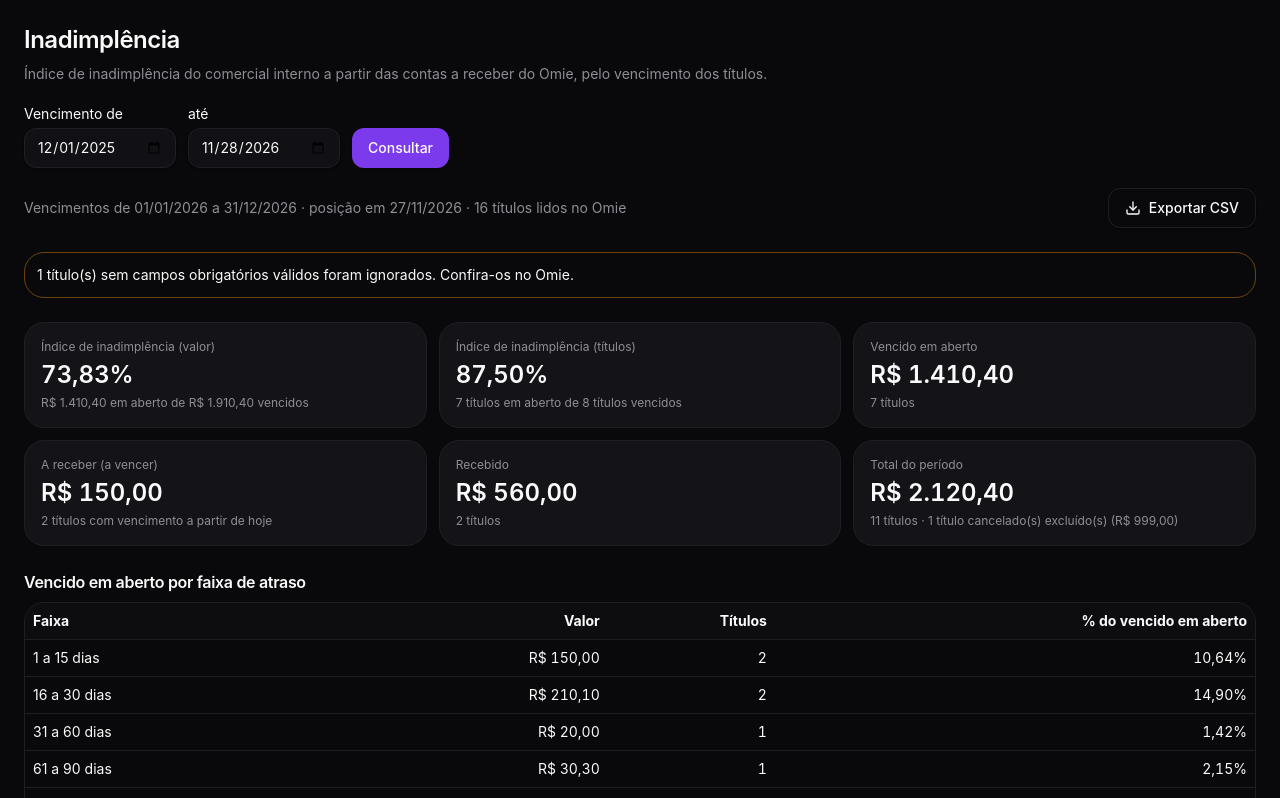
Test: valida o período no navegador antes de consultar
Expected: the text "73,83%" is shown, [41,360,134,389]
In the date field showing "Vencimento de": (100, 148) [24,128,176,168], type "2026-12-31"
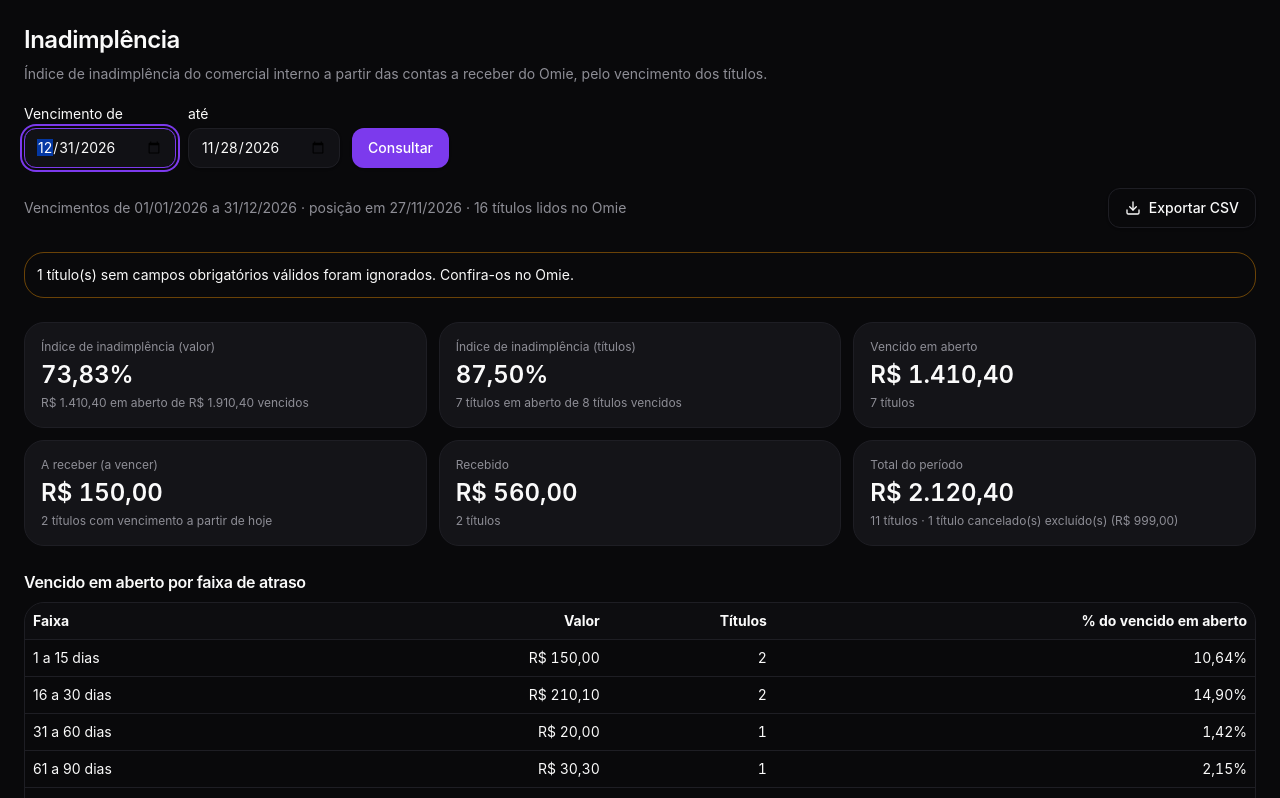
In the date field showing "até": (264, 148) [188,128,340,168], type "2026-01-01"
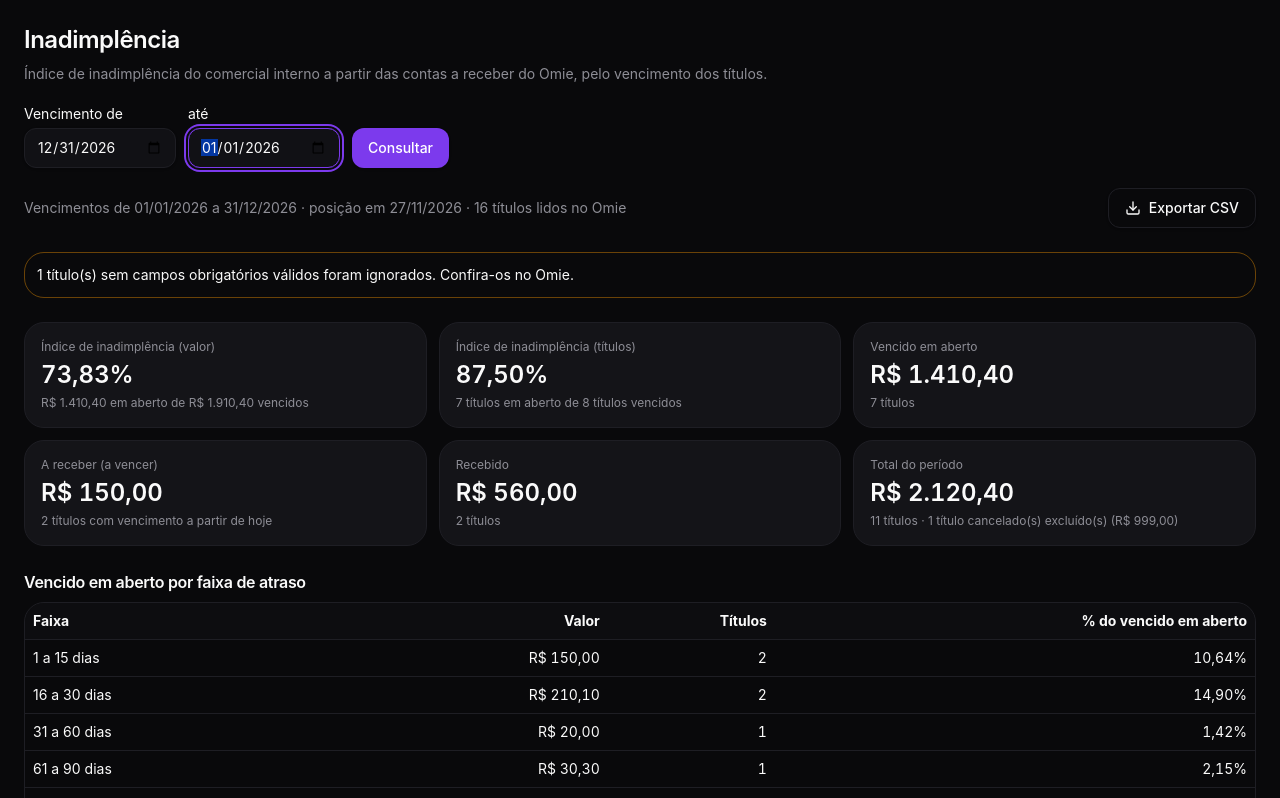
Click the button "Consultar": (400, 148) [352,128,449,168]
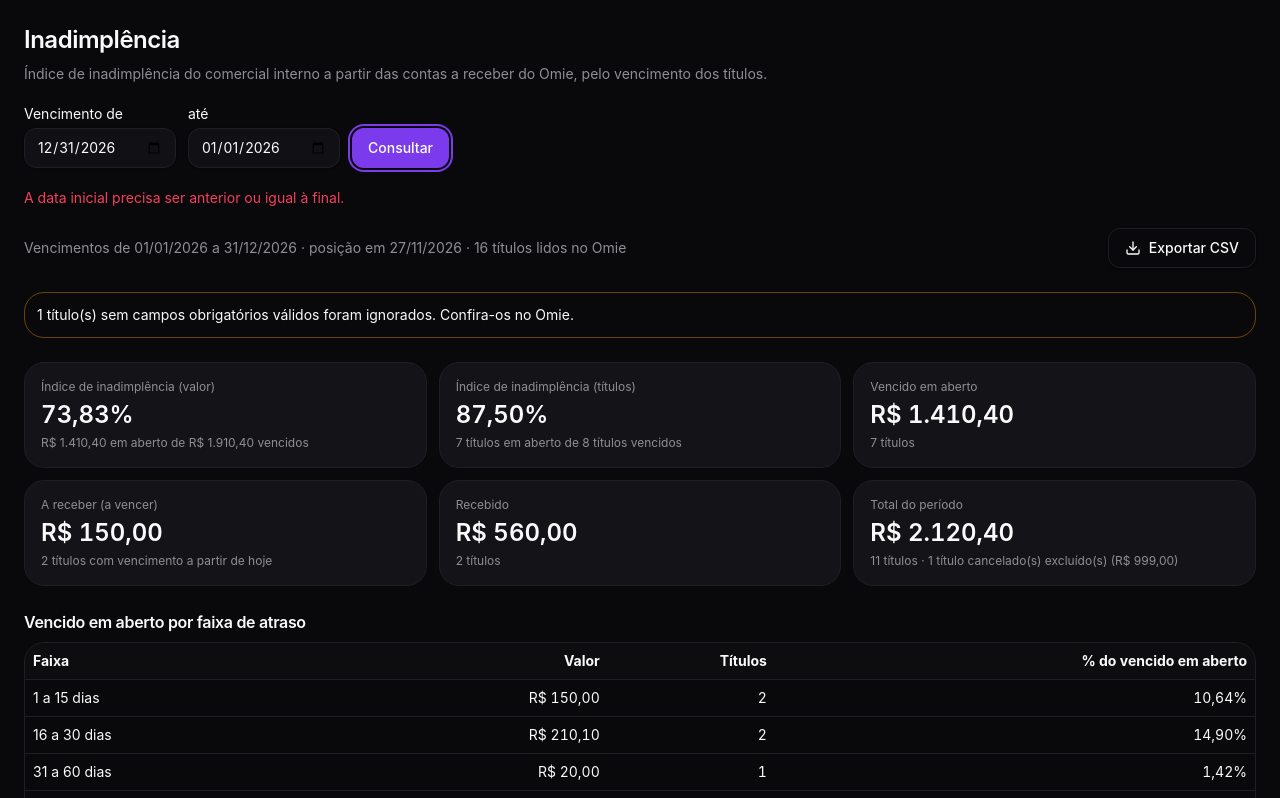
Result: the text "A data inicial precisa ser anterior ou igual à final." is shown at [24,189,344,206]
